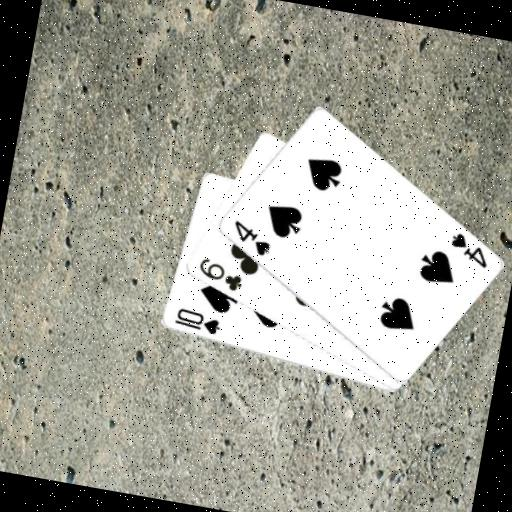10S: (170, 304, 224, 338)
4S: (226, 215, 275, 258), (444, 227, 493, 270)
6C: (192, 253, 247, 294)
